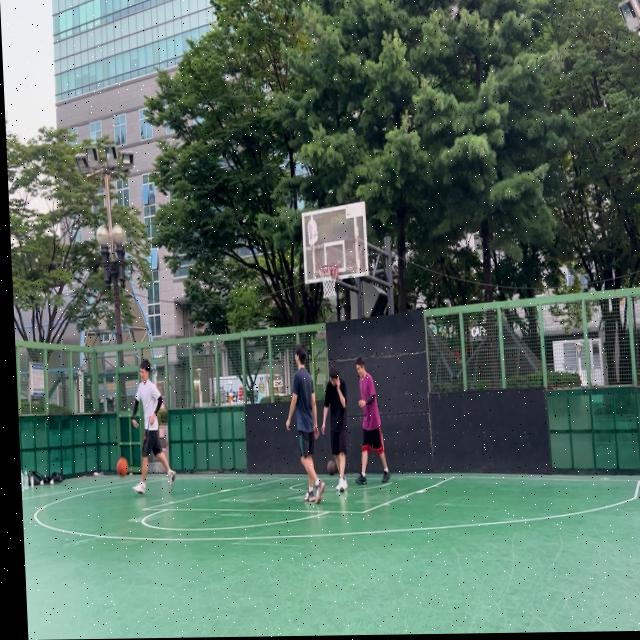basketball: (116, 457, 129, 477), (326, 460, 337, 476)
hoop: (319, 264, 340, 301)
